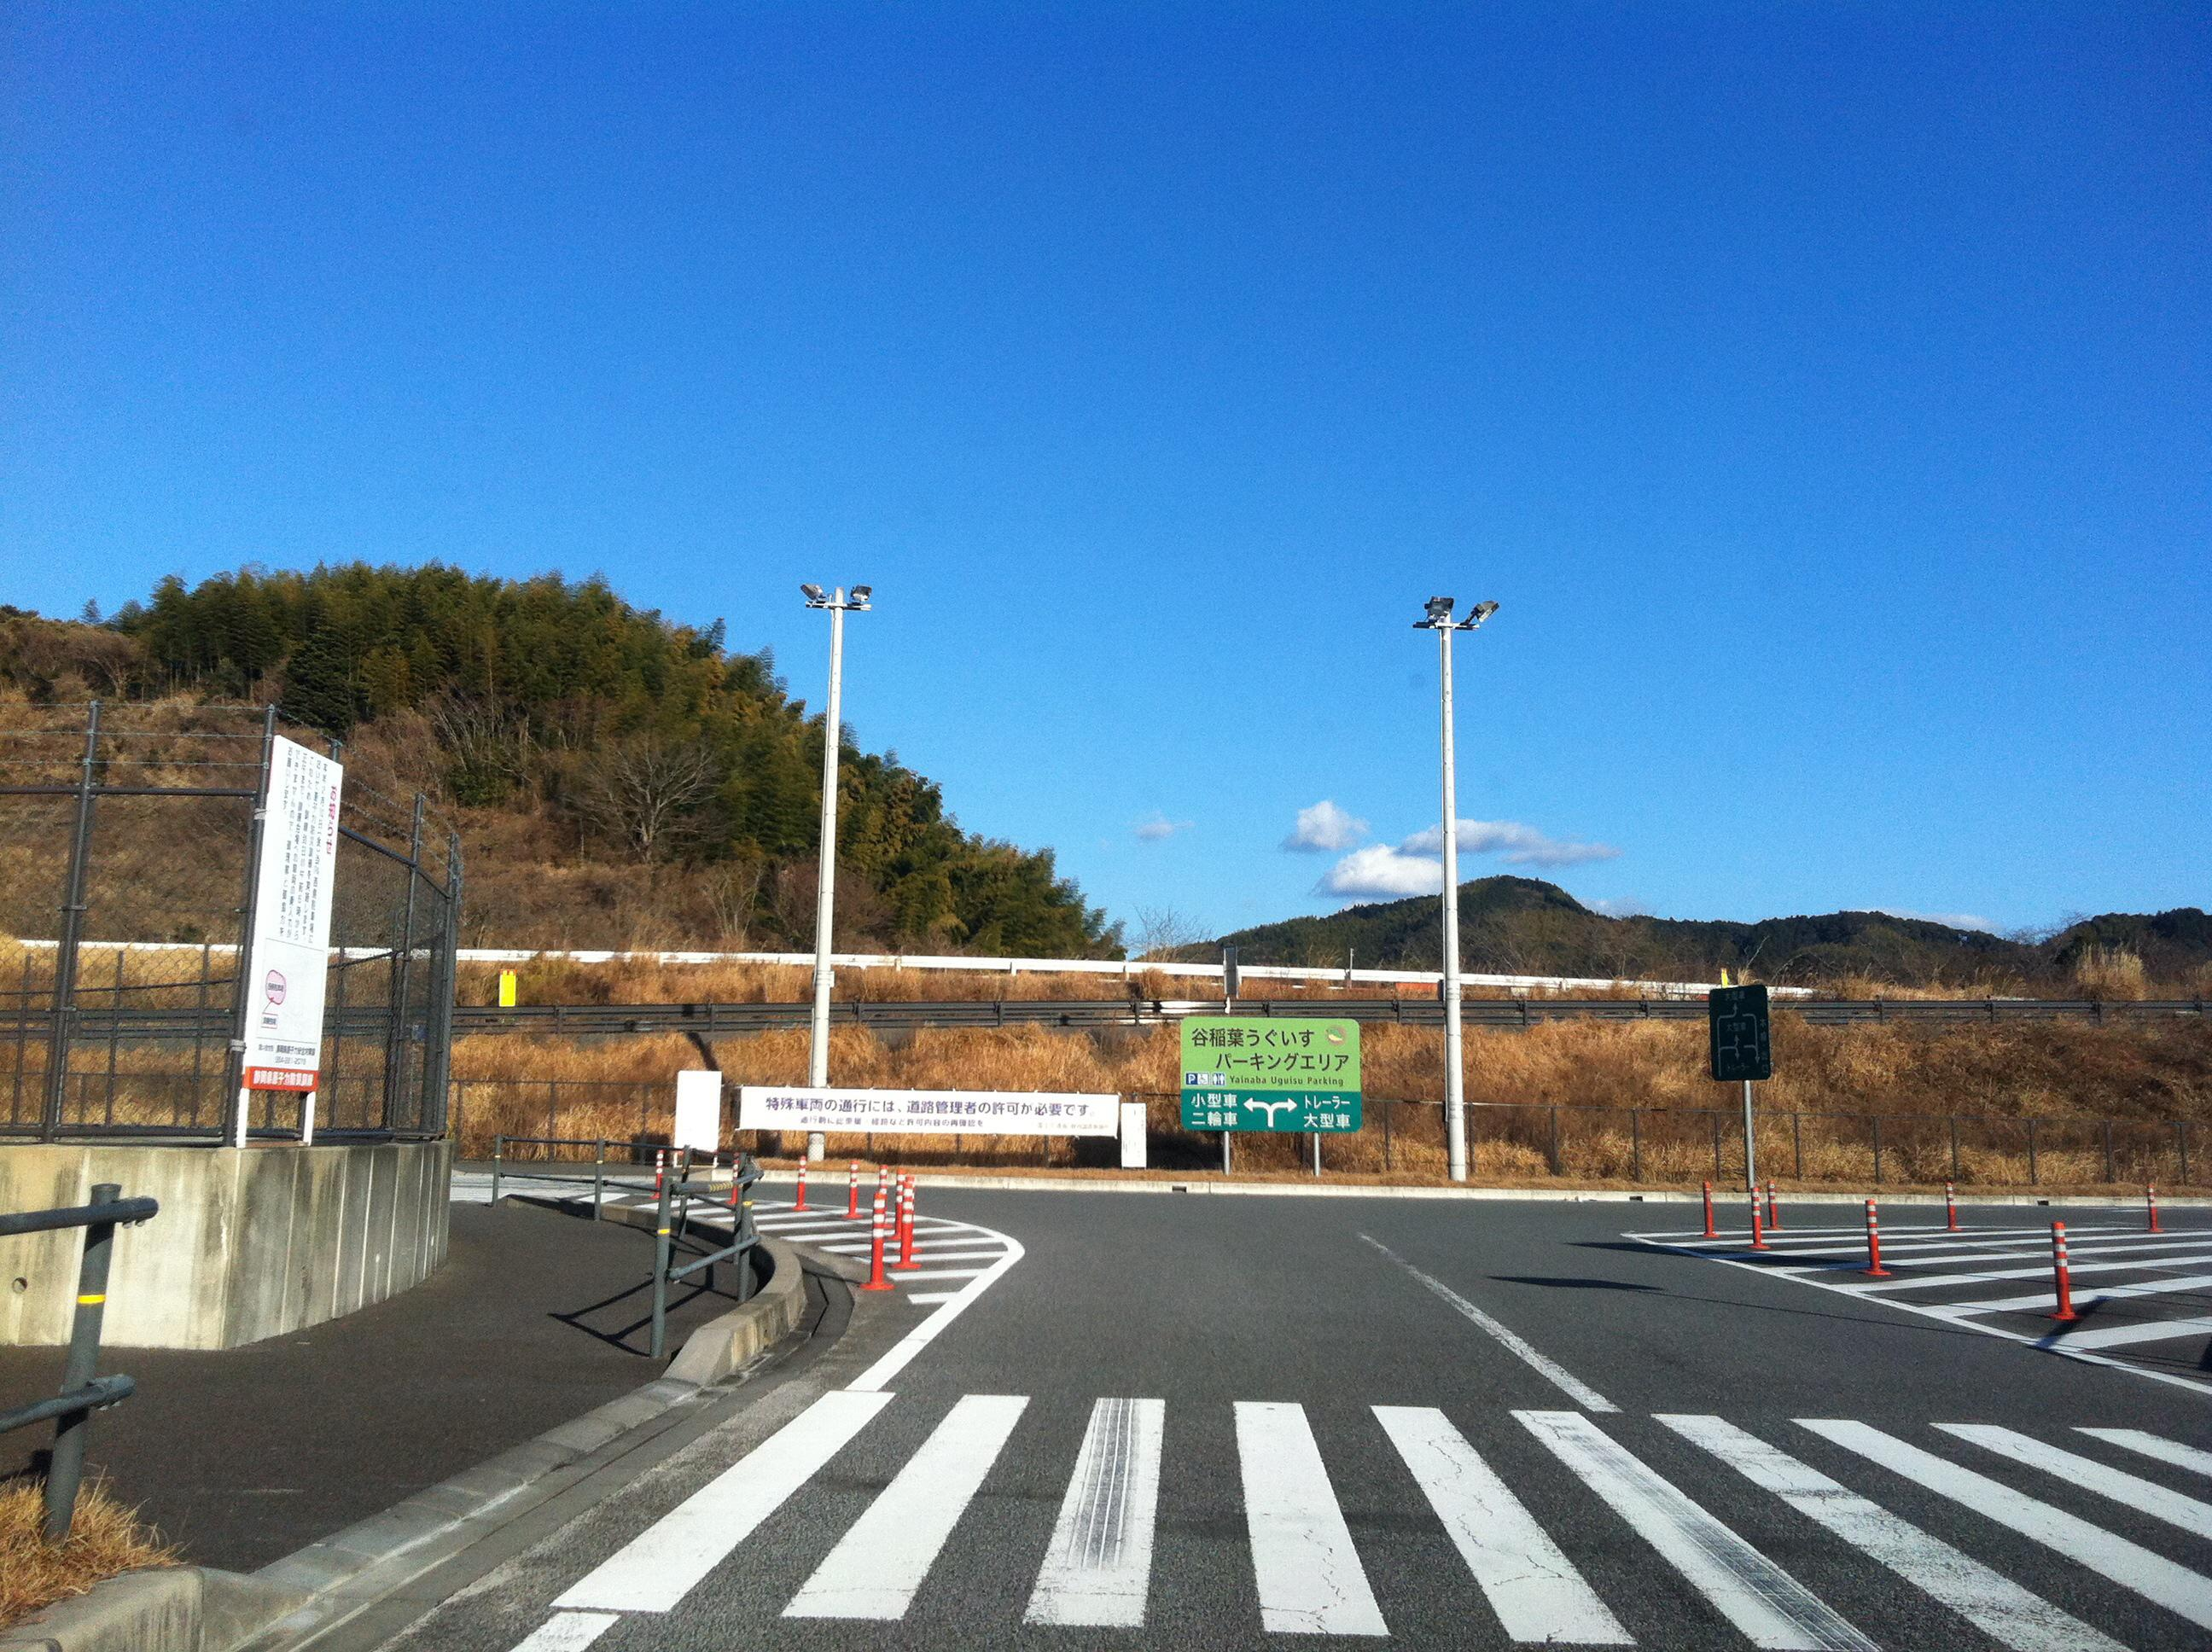vinyl banner: (734, 1065, 1136, 1161)
